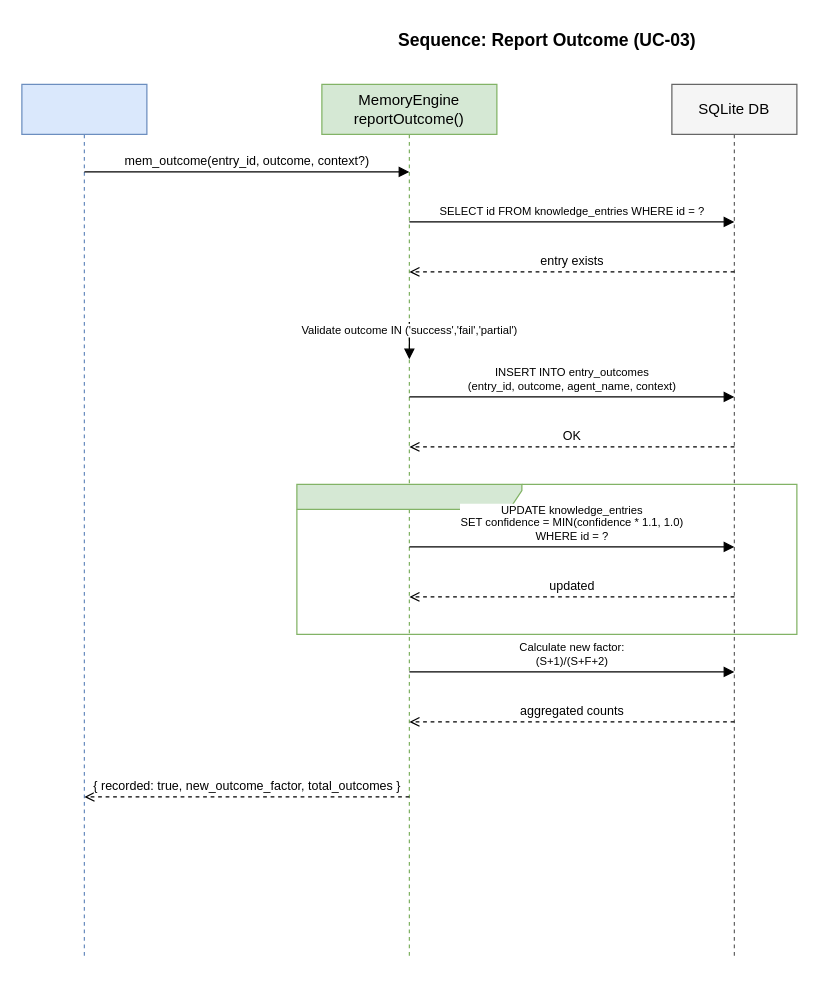
The diagram is 819 pixels wide and 981 high, and some of its shapes have lost their labels. Each missing label, with the box of its shape:
AI Agent: (21, 83, 147, 959)
opt [outcome == 'success']: (296, 483, 797, 634)
